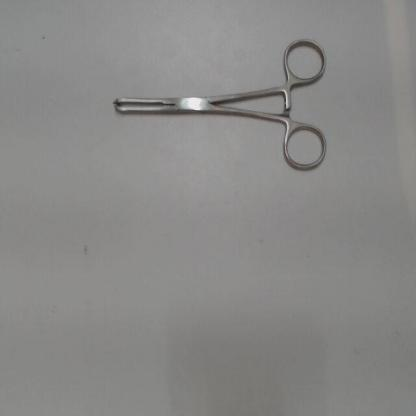Allis Tissue Forceps: (103, 38, 331, 185)
